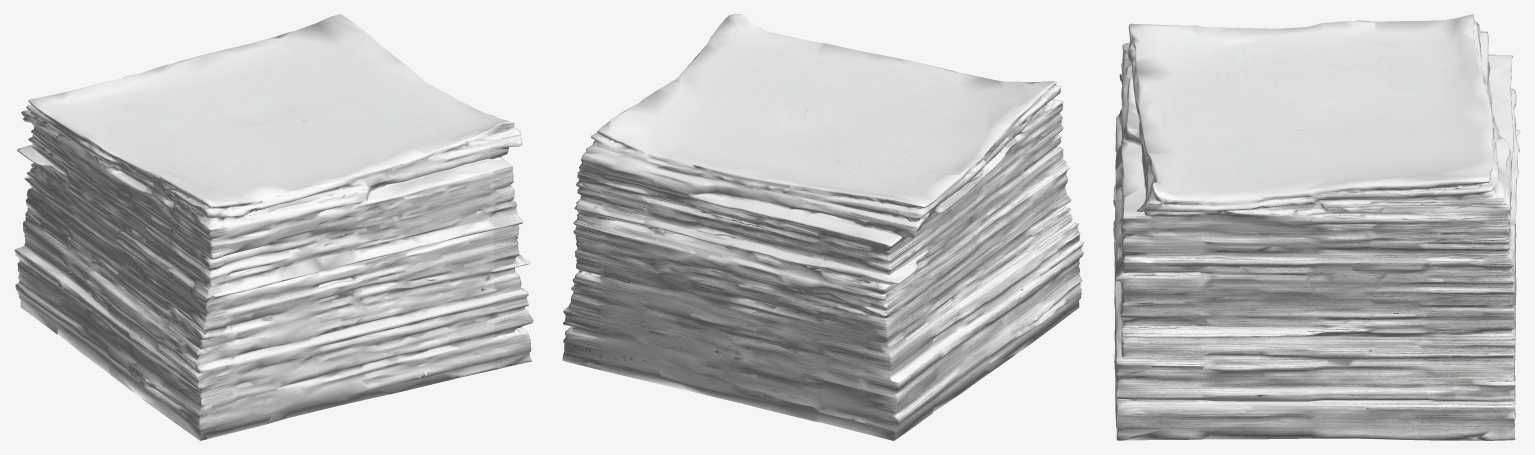
File: paper_stack.glb
3 views of the same model, side by side, from view 1: azimuth 30°, elevation 25°; view 2: azimuth 150°, elevation 25°; view 3: azimuth 270°, elevation 25° (orthographic). The views are drawn at different scales.
Bounding box in the file's own units: 2 × 1.27 × 1.87.
1 material, 1 textured.
